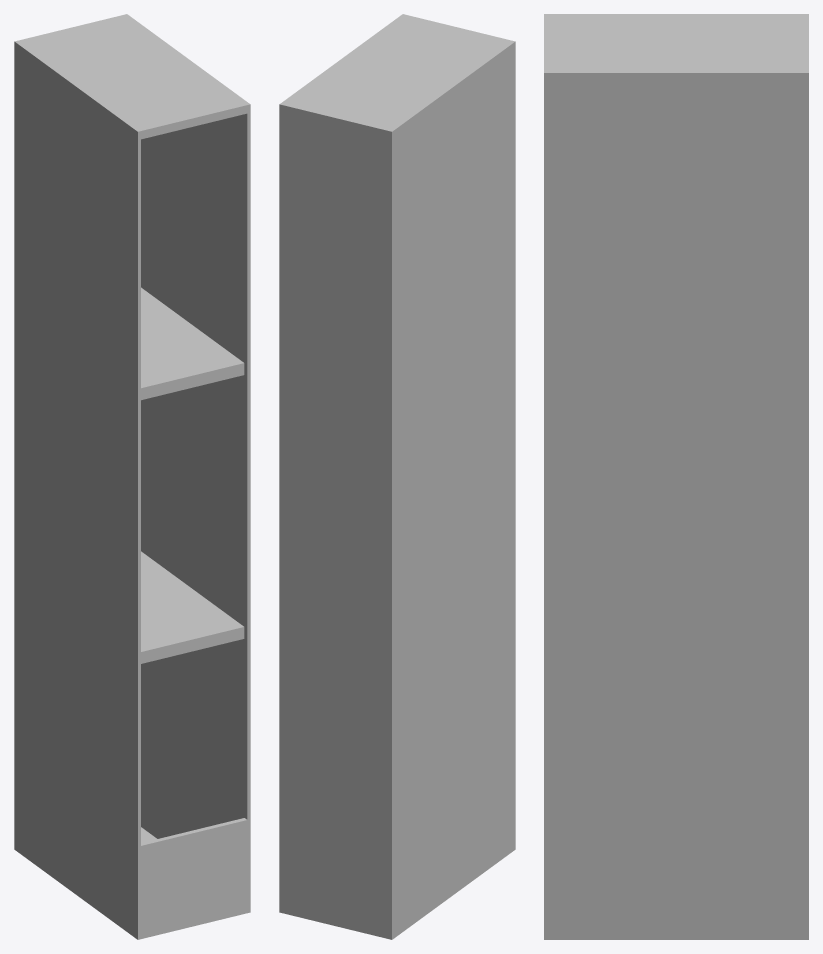
File: cabin.fbx
3 renders of one model, left to right at view 1: azimuth 30°, elevation 25°; view 2: azimuth 150°, elevation 25°; view 3: azimuth 270°, elevation 25°, orthographic. The views are drawn at different scales.
Parts seen in each view (by area): view 1: Cabine; view 2: Cabine; view 3: Cabine.
Part boxes in pixels (x1,y1,x2,y2): Cabine: (14,14,250,939); Cabine: (279,14,515,939); Cabine: (544,14,808,939).
Size of the model in its own units: 29.18 by 200 by 55.37.
